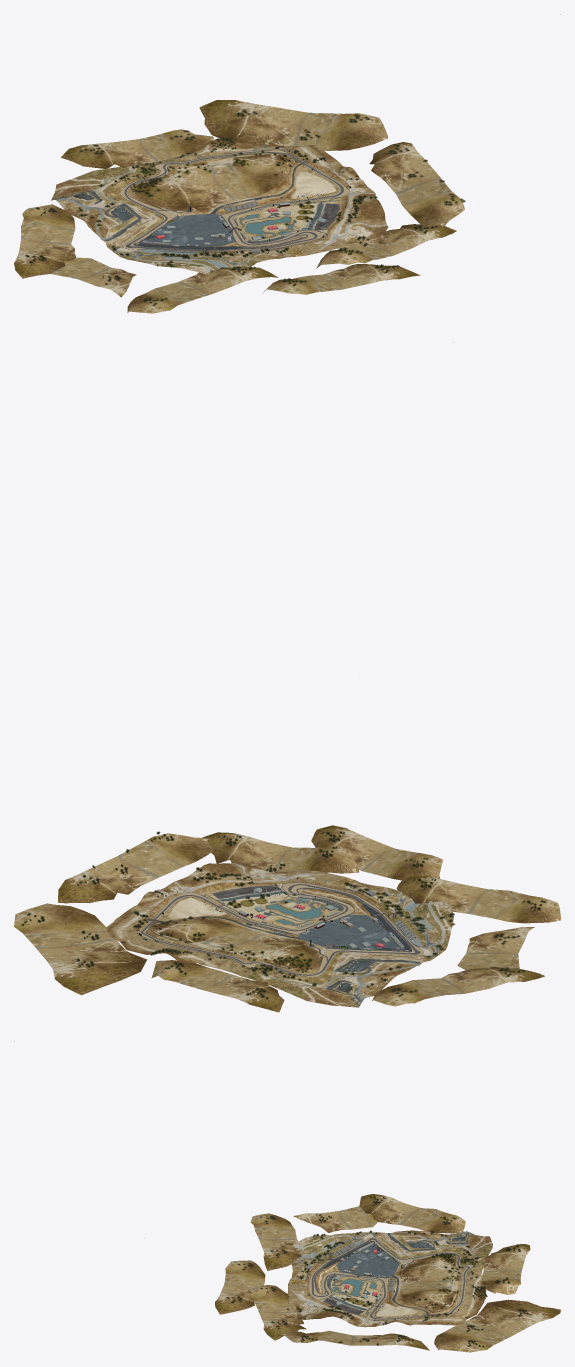
The model's file is lagunaseca.glb.
The picture shows the model from 3 angles, top to bottom: view 1: azimuth 30°, elevation 25°; view 2: azimuth 150°, elevation 25°; view 3: azimuth 270°, elevation 25°; orthographic projection. The views are drawn at different scales.
Visible parts, largest first — view 1: 0192_env, 0194_env, 0190_env, 0182_laguna_seca_road, 0119_Object933, 0197_laguna_seca_road, 0198_laguna_seca_road; view 2: 0192_env, 0194_env, 0190_env, 0182_laguna_seca_road, 0119_Object933, 0197_laguna_seca_road, 0198_laguna_seca_road; view 3: 0192_env, 0194_env, 0190_env, 0182_laguna_seca_road, 0119_Object933, 0197_laguna_seca_road, 0198_laguna_seca_road.
Boxes of the visible parts, box(x1,y1,x2,y2) form: 0192_env: box(14, 100, 464, 313); 0194_env: box(51, 157, 305, 274); 0190_env: box(175, 139, 388, 255); 0182_laguna_seca_road: box(120, 150, 349, 251); 0119_Object933: box(25, 109, 465, 305); 0197_laguna_seca_road: box(124, 151, 344, 251); 0198_laguna_seca_road: box(120, 150, 349, 251); 0192_env: box(14, 825, 560, 1012); 0194_env: box(217, 877, 453, 1007); 0190_env: box(106, 862, 345, 968); 0182_laguna_seca_road: box(139, 882, 423, 977); 0119_Object933: box(21, 831, 545, 999); 0197_laguna_seca_road: box(140, 884, 420, 975); 0198_laguna_seca_road: box(139, 882, 423, 977); 0192_env: box(215, 1194, 560, 1352); 0194_env: box(288, 1230, 492, 1283); 0190_env: box(287, 1272, 486, 1327); 0182_laguna_seca_road: box(309, 1237, 472, 1320); 0119_Object933: box(226, 1196, 531, 1347); 0197_laguna_seca_road: box(311, 1238, 470, 1319); 0198_laguna_seca_road: box(309, 1237, 470, 1320).
Size of the model in its own units: 23.47 by 18.89 by 33.79.
Materials: 2 (2 with a texture image).
